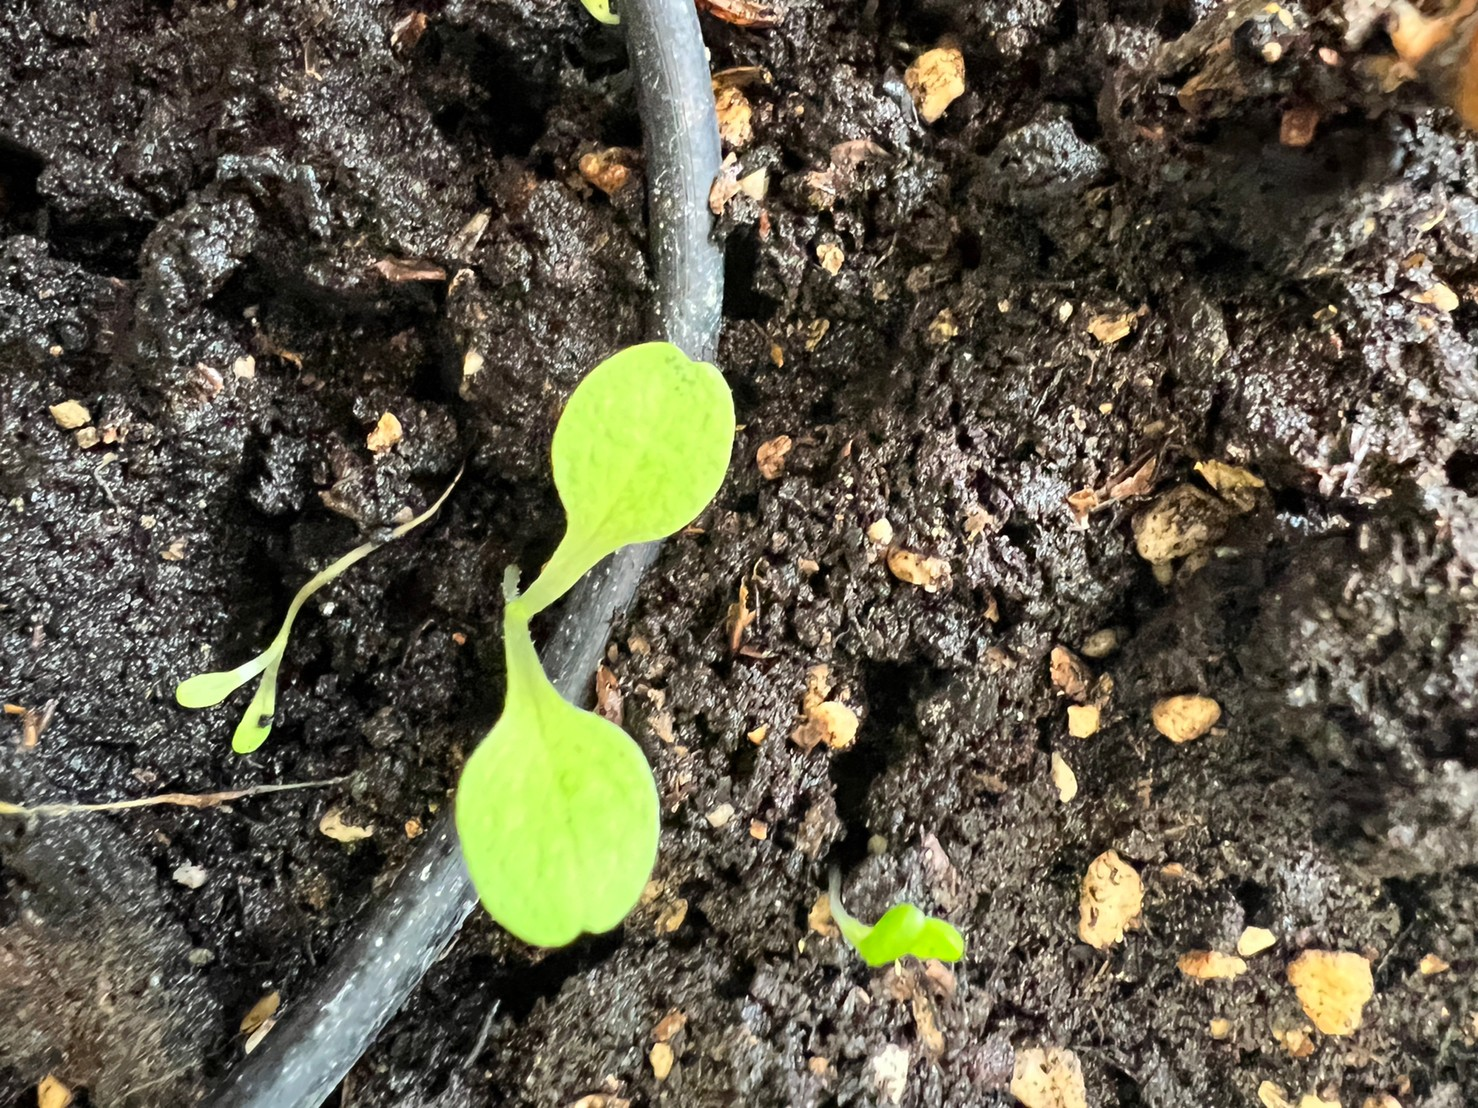week1: (434, 599, 701, 971), (517, 290, 782, 660), (800, 862, 1012, 1017), (156, 605, 317, 786)
